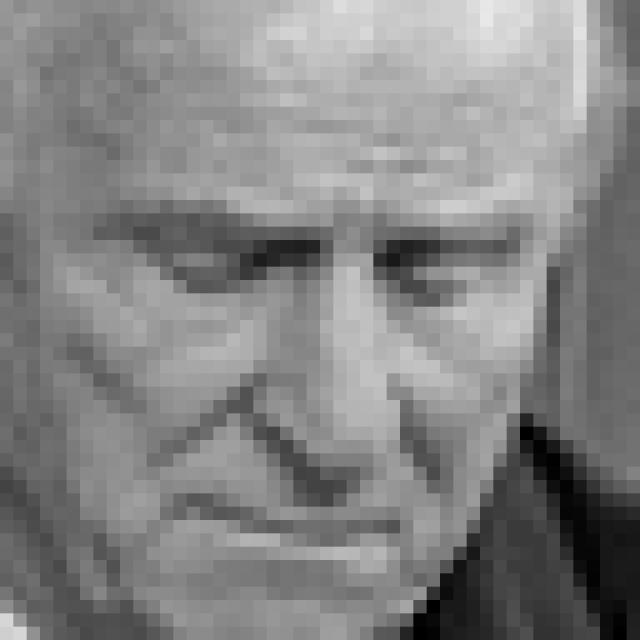sad: (79, 158, 538, 592)
